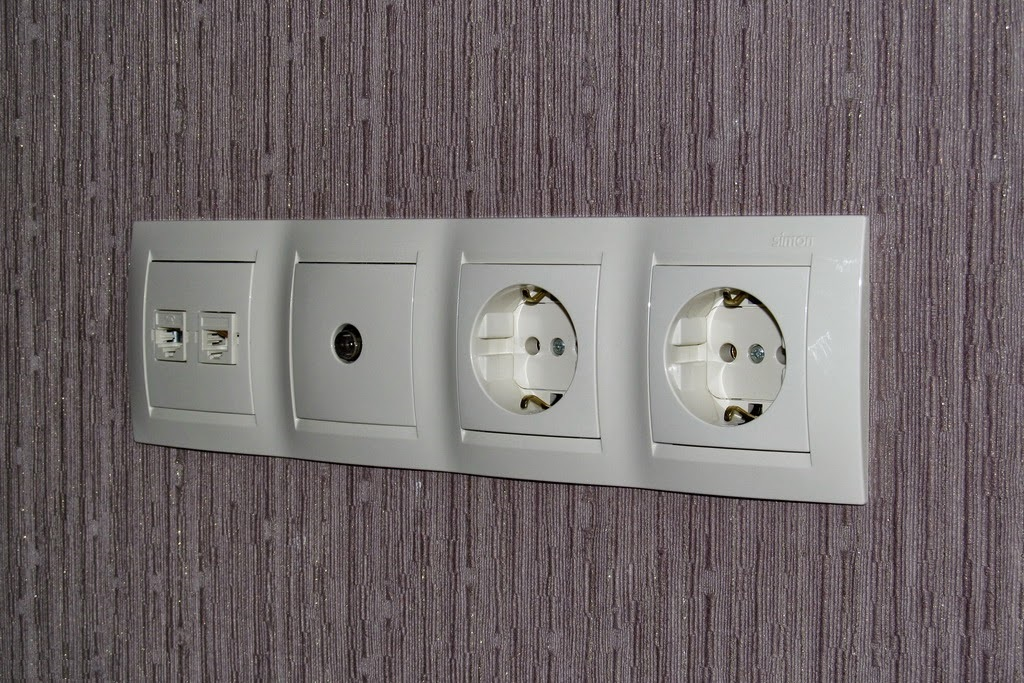raccoon: (662, 280, 789, 430), (465, 280, 580, 418)
